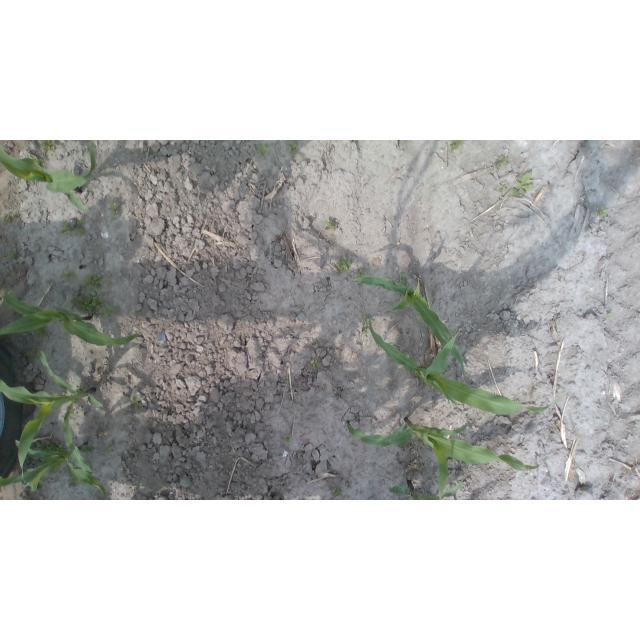Maize: (367, 316, 564, 414), (344, 416, 551, 500), (0, 352, 102, 481), (349, 270, 468, 380), (1, 288, 142, 347), (0, 140, 96, 213), (1, 439, 110, 500), (390, 480, 463, 501)
Weeds: (70, 294, 102, 313), (510, 173, 533, 195), (82, 272, 103, 292), (35, 440, 67, 453), (337, 255, 352, 273), (361, 314, 372, 335), (256, 142, 270, 158), (103, 303, 118, 317), (25, 345, 39, 359), (59, 223, 73, 237), (108, 200, 120, 216), (33, 328, 50, 339), (62, 270, 76, 283), (40, 140, 55, 152), (448, 141, 464, 152), (75, 220, 86, 236), (496, 156, 509, 169), (332, 485, 345, 498), (29, 154, 44, 165), (131, 397, 142, 412), (287, 141, 299, 154), (323, 220, 337, 231), (50, 464, 63, 474), (2, 213, 15, 223), (598, 206, 609, 217), (355, 267, 367, 277), (106, 440, 114, 452), (498, 183, 507, 193), (10, 252, 20, 261), (310, 359, 319, 368), (38, 457, 49, 464), (68, 476, 76, 484), (79, 382, 86, 391), (286, 436, 293, 444), (281, 377, 289, 383), (605, 313, 611, 320), (142, 496, 150, 500)
